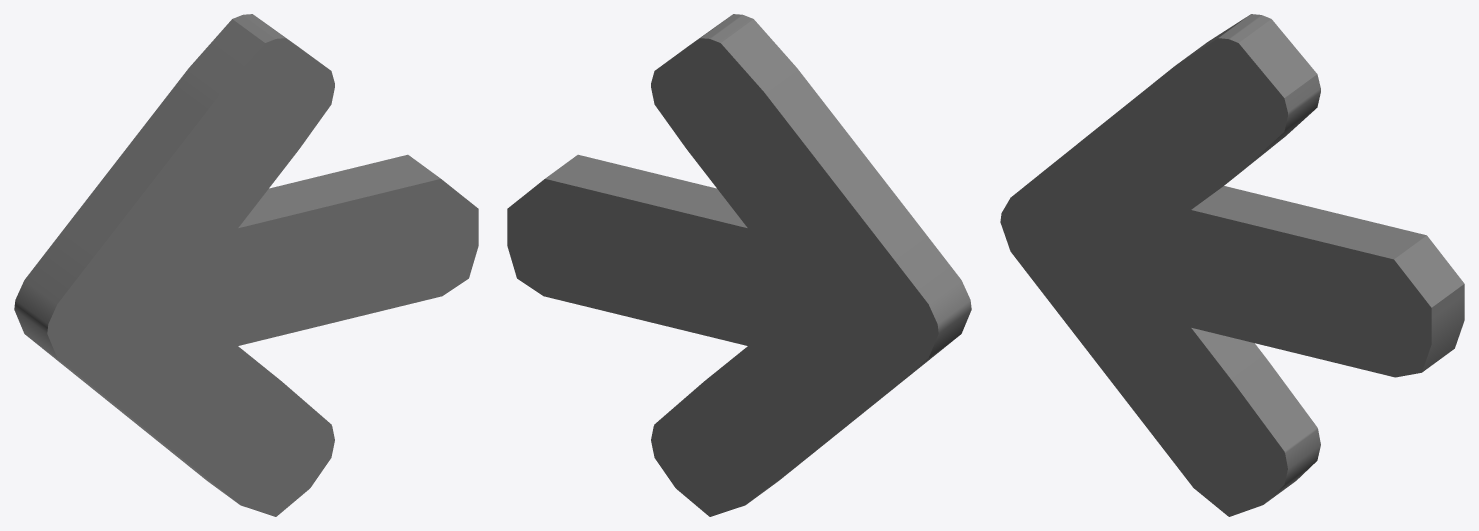
Rendered from fa-arrow-left.obj.
The picture shows the model from 3 angles, left to right: view 1: azimuth 30°, elevation 25°; view 2: azimuth 150°, elevation 25°; view 3: azimuth 330°, elevation 25°; orthographic projection.
Bounding box in the file's own units: 0.8693 × 0.92 × 0.1152.
1 material, 1 textured.
